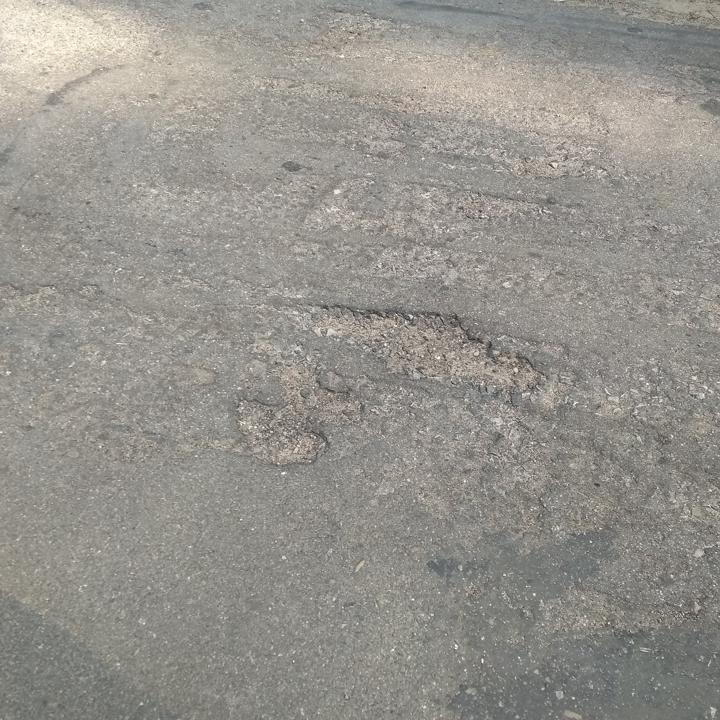pothole: (290, 300, 547, 396), (231, 394, 332, 467)
